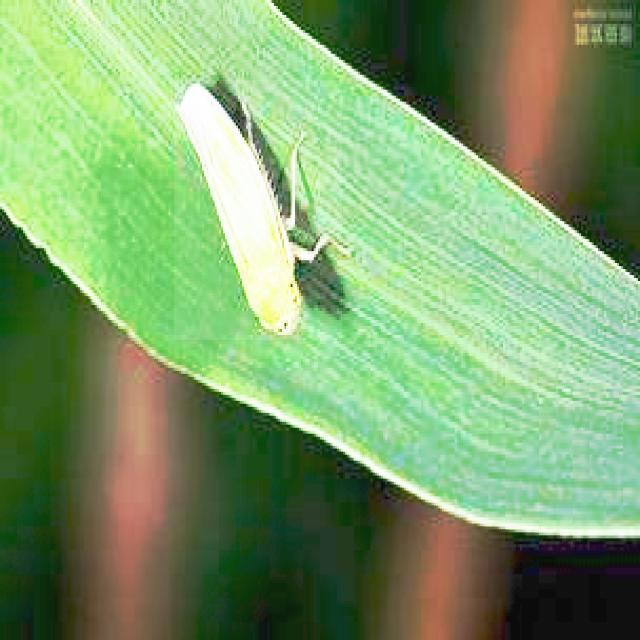green-leafhopper: (174, 80, 342, 340)
